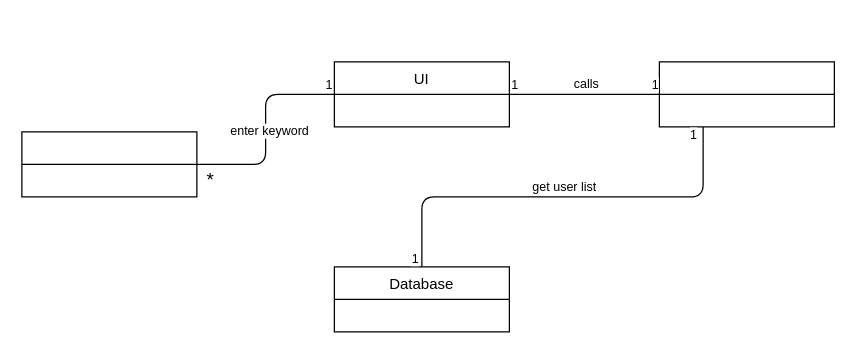
Some shapes in this 856 by 354 pixel diagram are drawn without their labels. Each missing label, with the box of its shape:
Administrator: (21, 131, 197, 197)
API: (658, 61, 834, 127)
